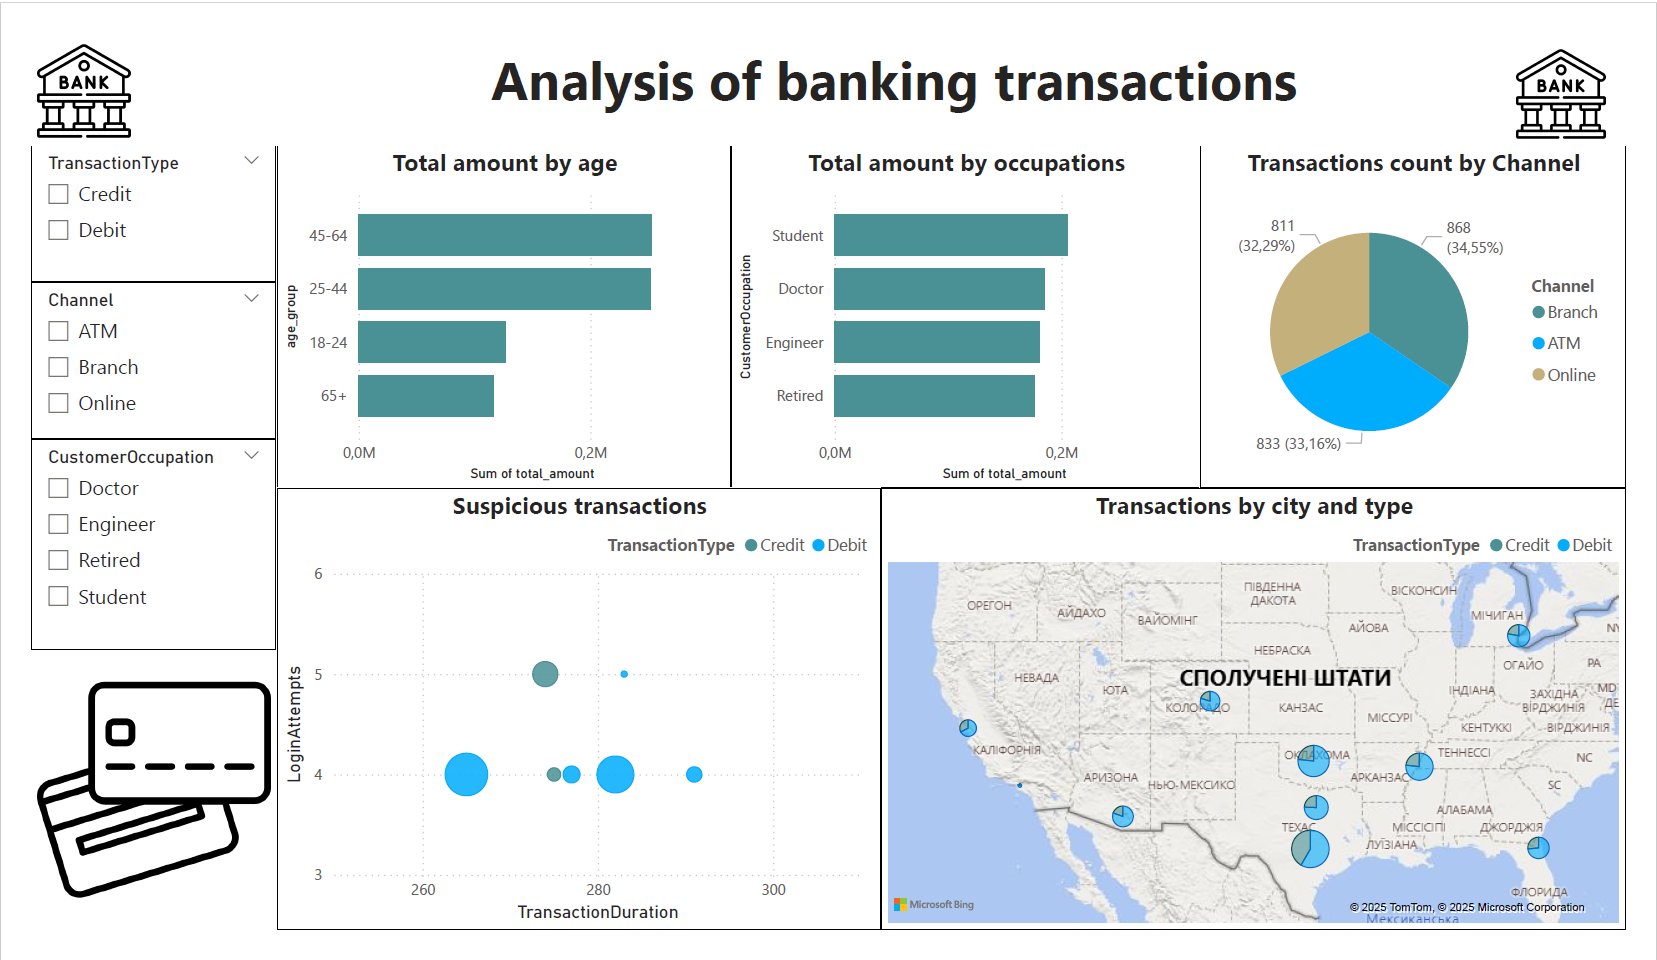

What the dashboard file says about the page in this screenshot:
{"tool":"powerbi","page":{"name":"Page 1","canvas":[1280,720],"ordinal":0},"visuals":[{"type":"map","title":"Transactions by city and type","fields":{"Category":["s7_Transactions_by_type_city.Location"],"Size":["Sum(s7_Transactions_by_type_city.total_amount)"],"Series":["s7_Transactions_by_type_city.TransactionType"]},"box":[681.6,365,598.4,355.3],"z":0},{"type":"barChart","title":"Total amount by age ","fields":{"Category":["s8_transactions by age group.age_group"],"Y":["Sum(s8_transactions by age group.total_amount)"]},"box":[196.6,90,365,275],"z":1000},{"type":"clusteredBarChart","title":"Total amount by occupations","fields":{"Y":["Sum(s9_Transactions by profession.total_amount)"],"Category":["s9_Transactions by profession.CustomerOccupation"]},"box":[561.6,90,376.6,275],"z":2000},{"type":"pieChart","title":"Transactions count by Channel","fields":{"Category":["s11_Transactions by channel.Channel"],"Y":["Sum(s11_Transactions by channel.transaction_count)"]},"box":[938.2,90,341.8,275],"z":3000},{"type":"scatterChart","title":"Suspicious transactions","fields":{"X":["s10_Suspicious transactions.TransactionDuration"],"Y":["s10_Suspicious transactions.LoginAttempts"],"Series":["s10_Suspicious transactions.TransactionType"],"Size":["Sum(s10_Suspicious transactions.TransactionAmount)"]},"box":[196.6,365,485.1,355.3],"z":4000},{"type":"slicer","fields":{"Values":["s7_Transactions_by_type_city.TransactionType"]},"box":[0,90,196.6,110.4],"z":5000},{"type":"slicer","fields":{"Values":["s11_Transactions by channel.Channel"]},"box":[0,200.4,196.6,125.9],"z":6000},{"type":"slicer","fields":{"Values":["s9_Transactions by profession.CustomerOccupation"]},"box":[0,326.3,196.6,168.5],"z":7000},{"type":"textbox","box":[0,2.9,1280,87.1],"z":8000},{"type":"image","box":[0,2.5,85.2,86.9],"z":9000},{"type":"image","box":[0,494,197,226],"z":10000},{"type":"image","box":[1176.1,8.4,103.6,81.9],"z":11000}]}

Visuals, with their boxes in screenshot pixels (x1, y1, x2, y2), scaled from the page's 1280x720 canvas onto the 1657x960 screenshot:
"Transactions by city and type" map: x1=882, y1=487, x2=1656, y2=959
"Total amount by age " barChart: x1=255, y1=120, x2=727, y2=487
"Total amount by occupations" clusteredBarChart: x1=727, y1=120, x2=1215, y2=487
"Transactions count by Channel" pieChart: x1=1215, y1=120, x2=1656, y2=487
"Suspicious transactions" scatterChart: x1=255, y1=487, x2=882, y2=959
slicer - s7_Transactions_by_type_city.TransactionType: x1=0, y1=120, x2=255, y2=267
slicer - s11_Transactions by channel.Channel: x1=0, y1=267, x2=255, y2=435
slicer - s9_Transactions by profession.CustomerOccupation: x1=0, y1=435, x2=255, y2=660
textbox: x1=0, y1=4, x2=1656, y2=120
image: x1=0, y1=3, x2=110, y2=119
image: x1=0, y1=659, x2=255, y2=959
image: x1=1522, y1=11, x2=1656, y2=120
